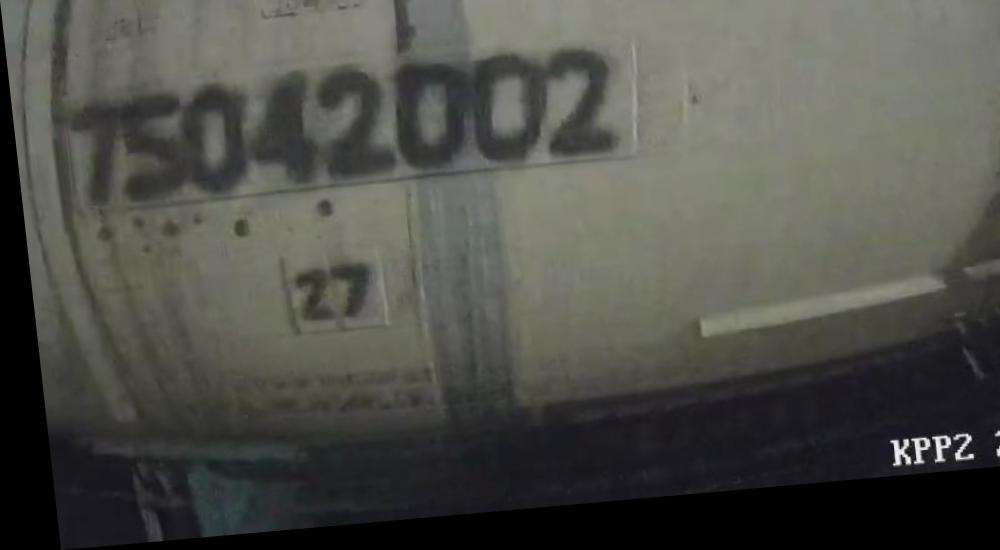Wagon-number: (52, 47, 625, 207)
